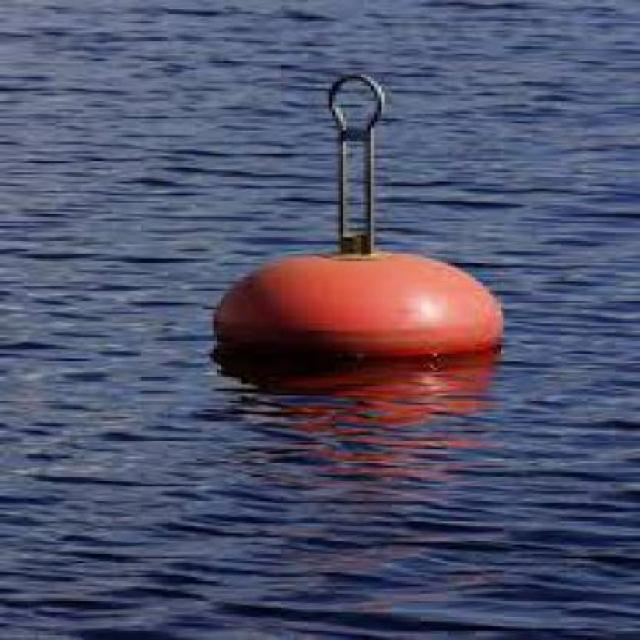buoy: (194, 56, 533, 378)
